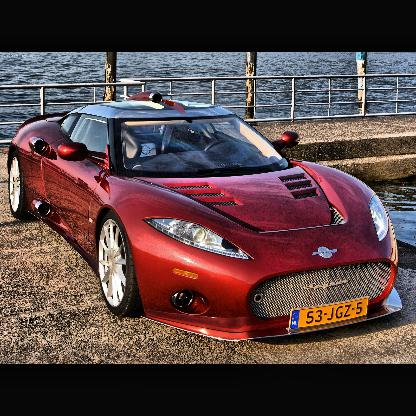Spyker C8 Coupe 2009: (8, 89, 407, 345)
